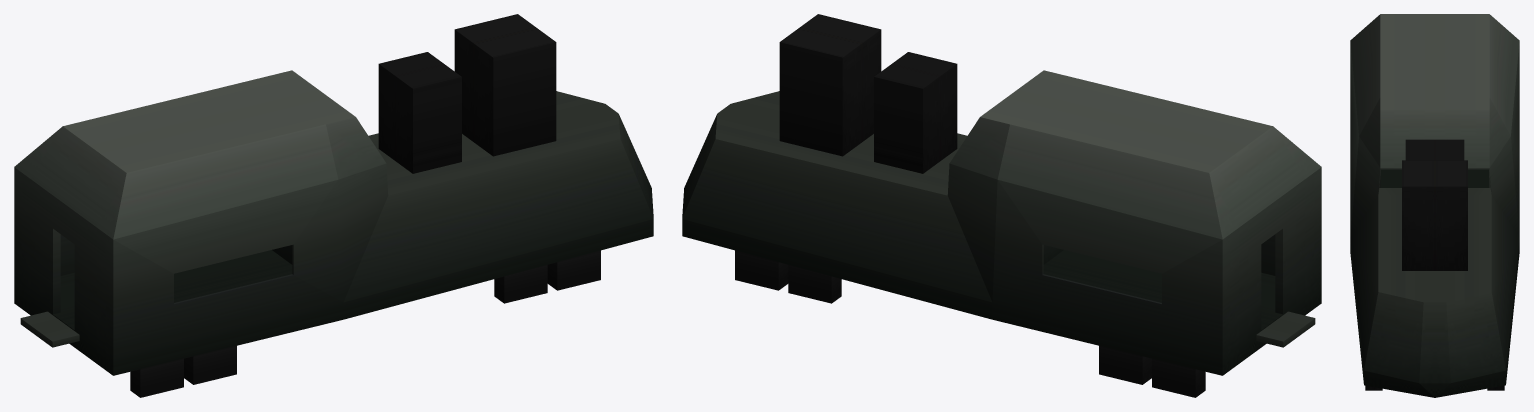
Rendered from lokomitive_placeholder_v001.fbx.
3 views of the same model, side by side, from view 1: azimuth 30°, elevation 25°; view 2: azimuth 150°, elevation 25°; view 3: azimuth 270°, elevation 25° (orthographic). The views are drawn at different scales.
Parts seen in each view (by area): view 1: lokcocc; view 2: lokcocc; view 3: lokcocc.
Part boxes in pixels (x1,y1,x2,y2): lokcocc: (14,14,653,397); lokcocc: (682,14,1321,397); lokcocc: (1350,14,1519,397).
Bounding box in the file's own units: 295 × 1043 × 374.
Materials: 1 (1 with a texture image).
